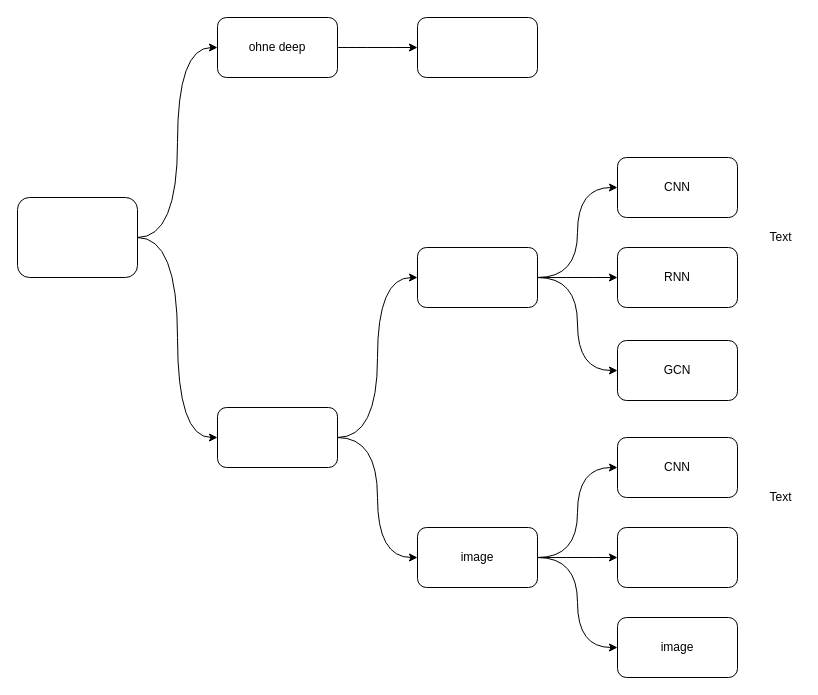
Some shapes in this 818 by 695 pixel diagram are drawn without their labels. The centre of each missing label's shape, as x and y in pixels:
Aktion Erkennung: point 77,237
Hand crafted features: point 477,47
machine learning basiert: point 277,437
skeleton: point 477,277
